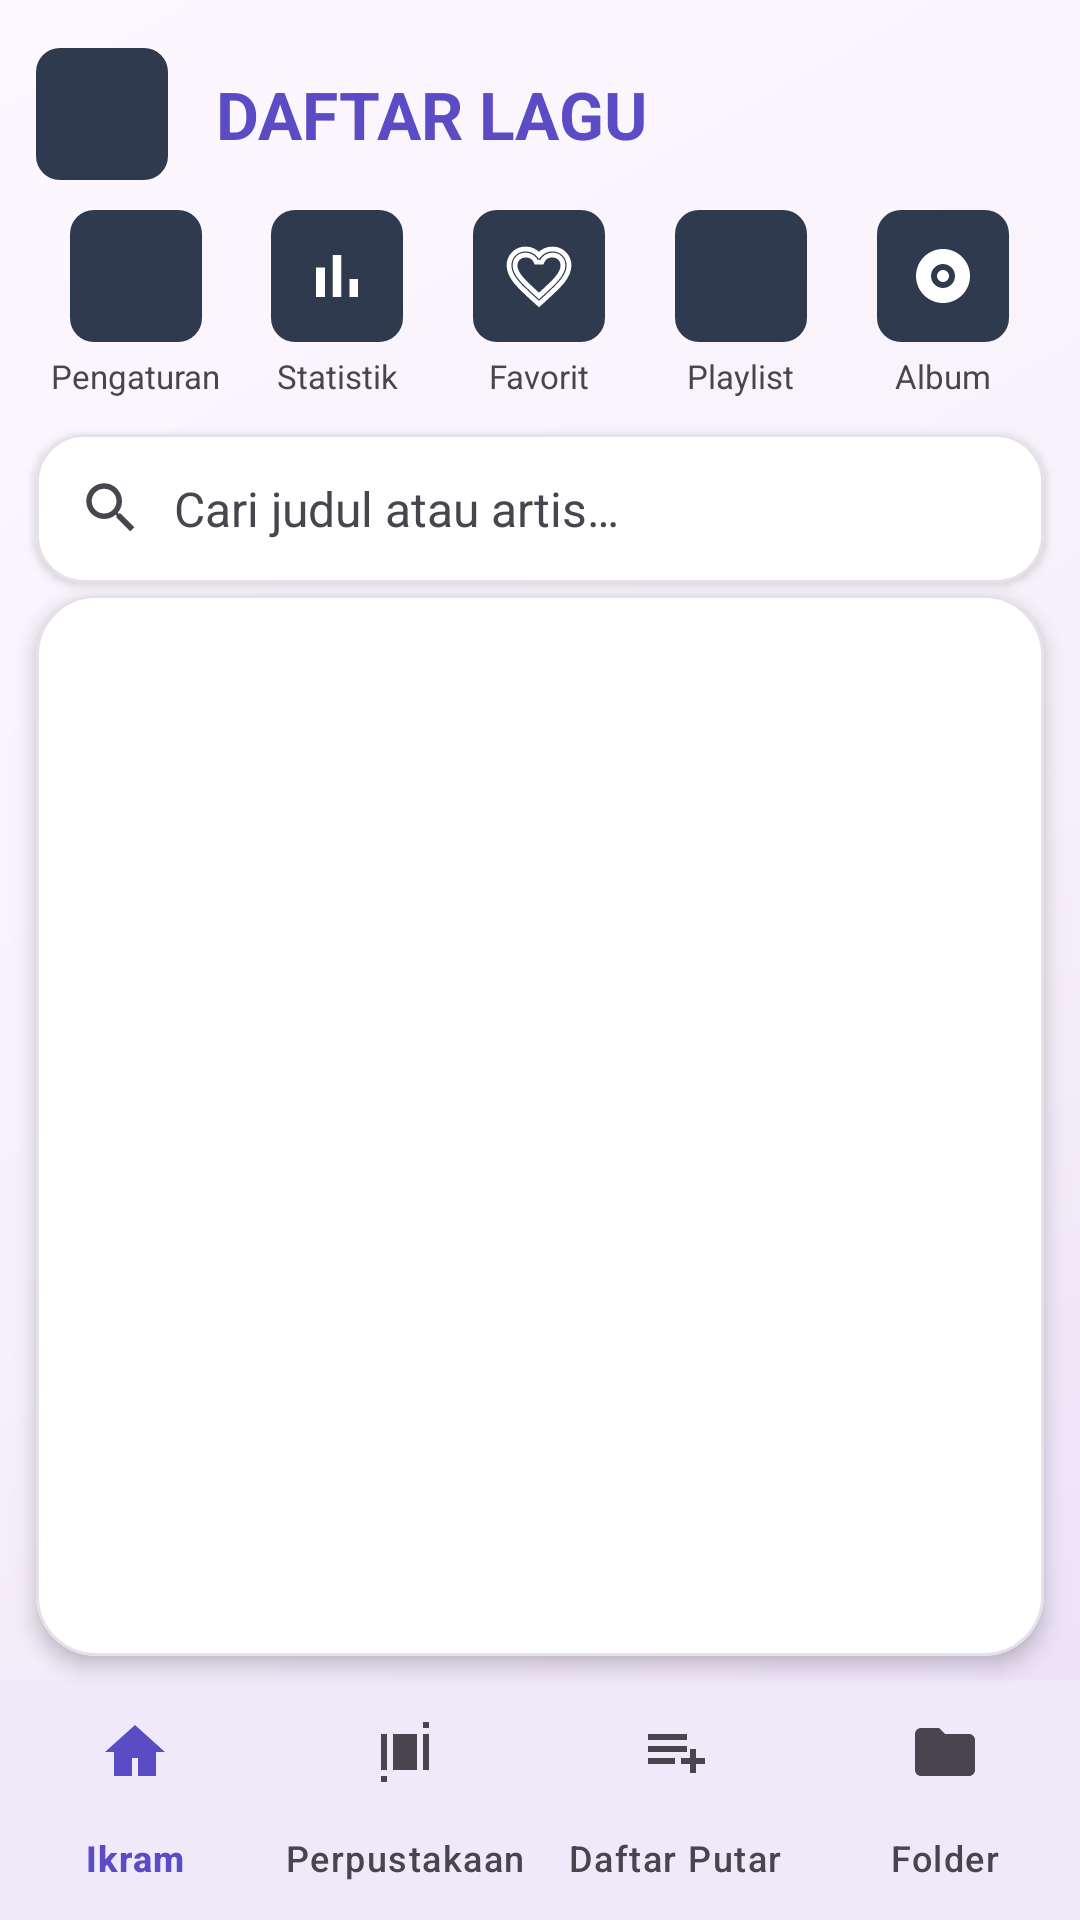

Icon click points for this 1080x1920 phone screenshot, format (x=x, y=y):
search: (x=110, y=507)
